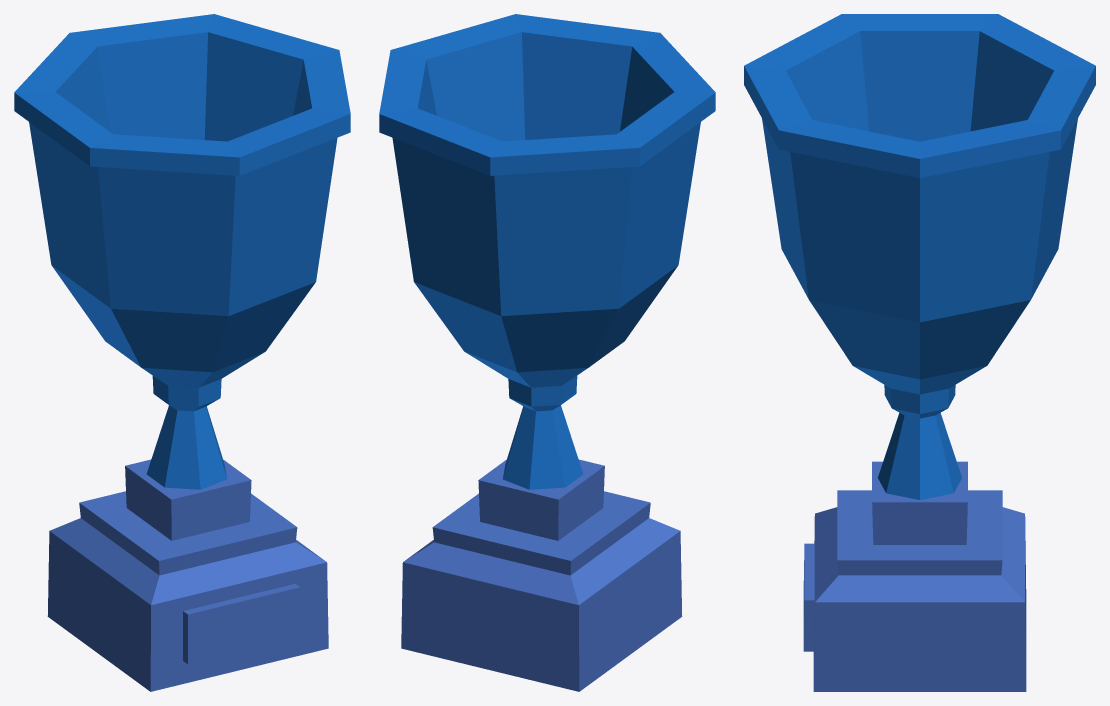
Rendered from SM_cup.fbx.
3 views of the same model, side by side, from view 1: azimuth 30°, elevation 25°; view 2: azimuth 150°, elevation 25°; view 3: azimuth 270°, elevation 25° (orthographic). The views are drawn at different scales.
Parts seen in each view (by area): view 1: cup; view 2: cup; view 3: cup.
Part boxes in pixels (x1,y1,x2,y2): cup: (14, 14, 350, 691); cup: (379, 14, 715, 691); cup: (744, 14, 1095, 691).
Size of the model in its own units: 20.62 by 37.41 by 21.15.
